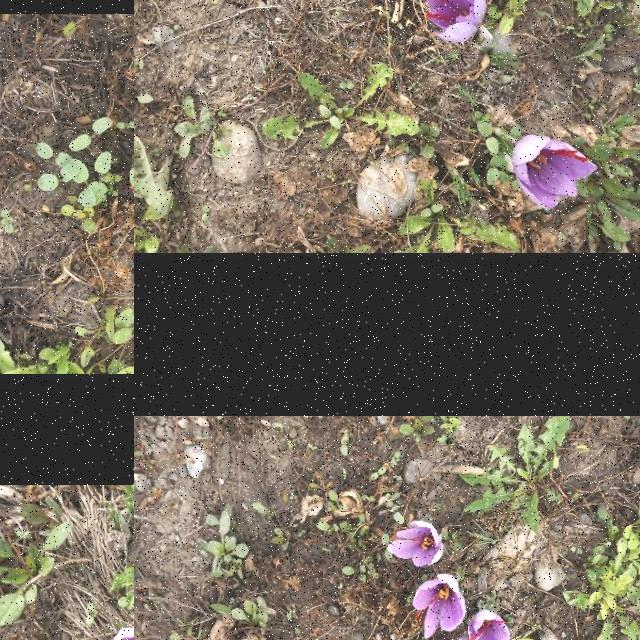flower: (512, 134, 598, 212), (412, 574, 466, 640), (421, 0, 488, 42), (387, 520, 443, 568), (467, 610, 512, 640), (455, 635, 473, 640)
